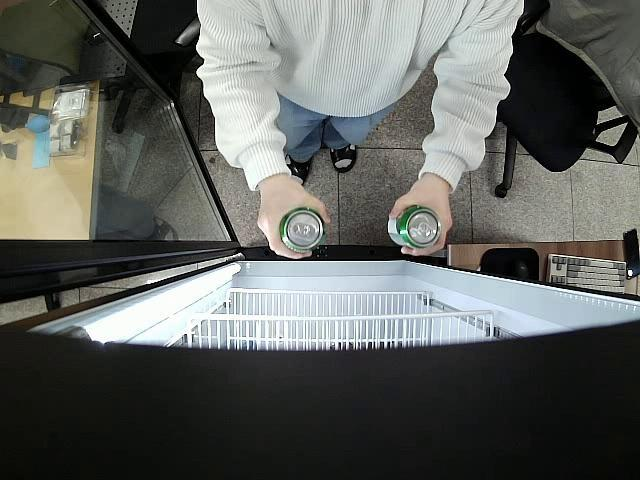12_chilsungCider: (386, 205, 441, 252), (280, 206, 325, 253)
